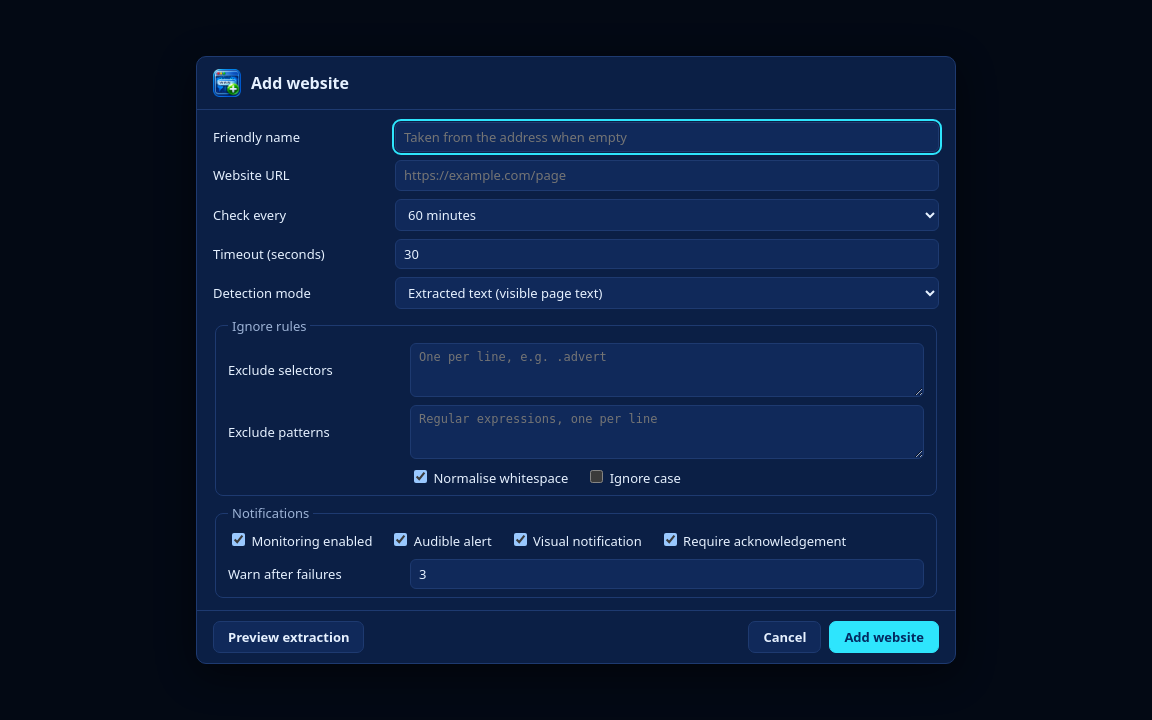
Test case: SiteDialog ready-made readings › fills a product page in as its address is entered and says why
Step 1. Type "https://shop.example/dp/0123456789" into the field labelled "Website URL" → (667, 176), box left=395, top=160, right=939, bottom=191
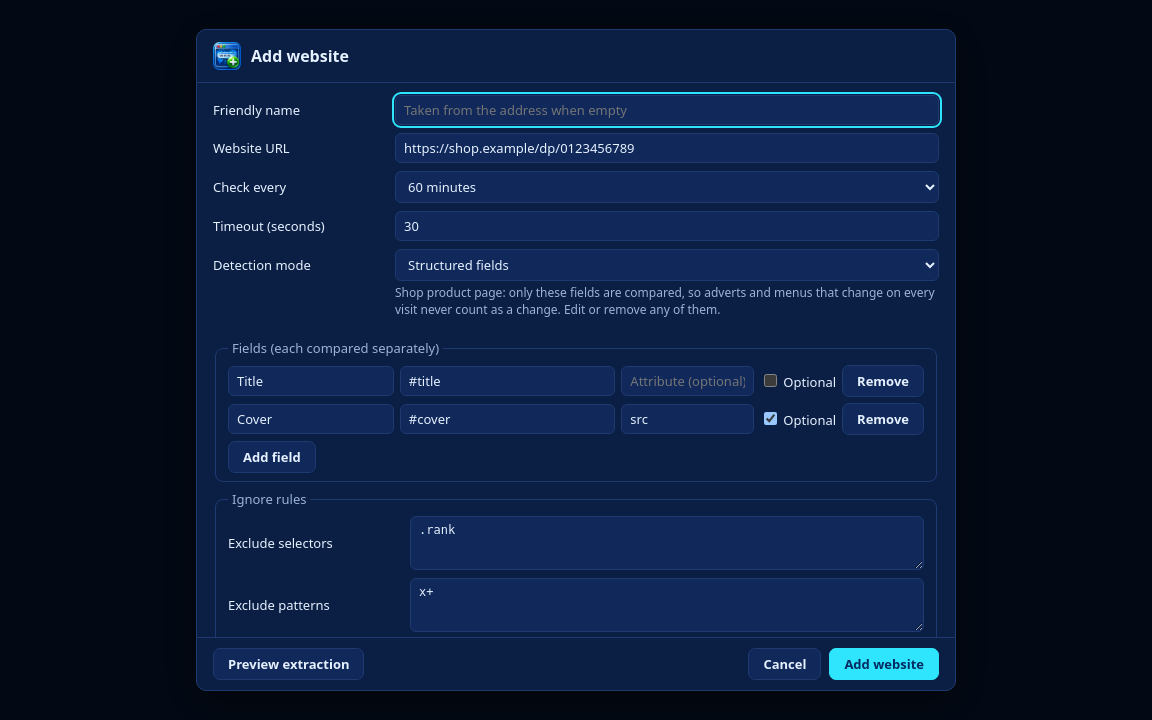
Now the text "Shop product page: only these fields are compared" is shown, box left=395, top=284, right=934, bottom=318
